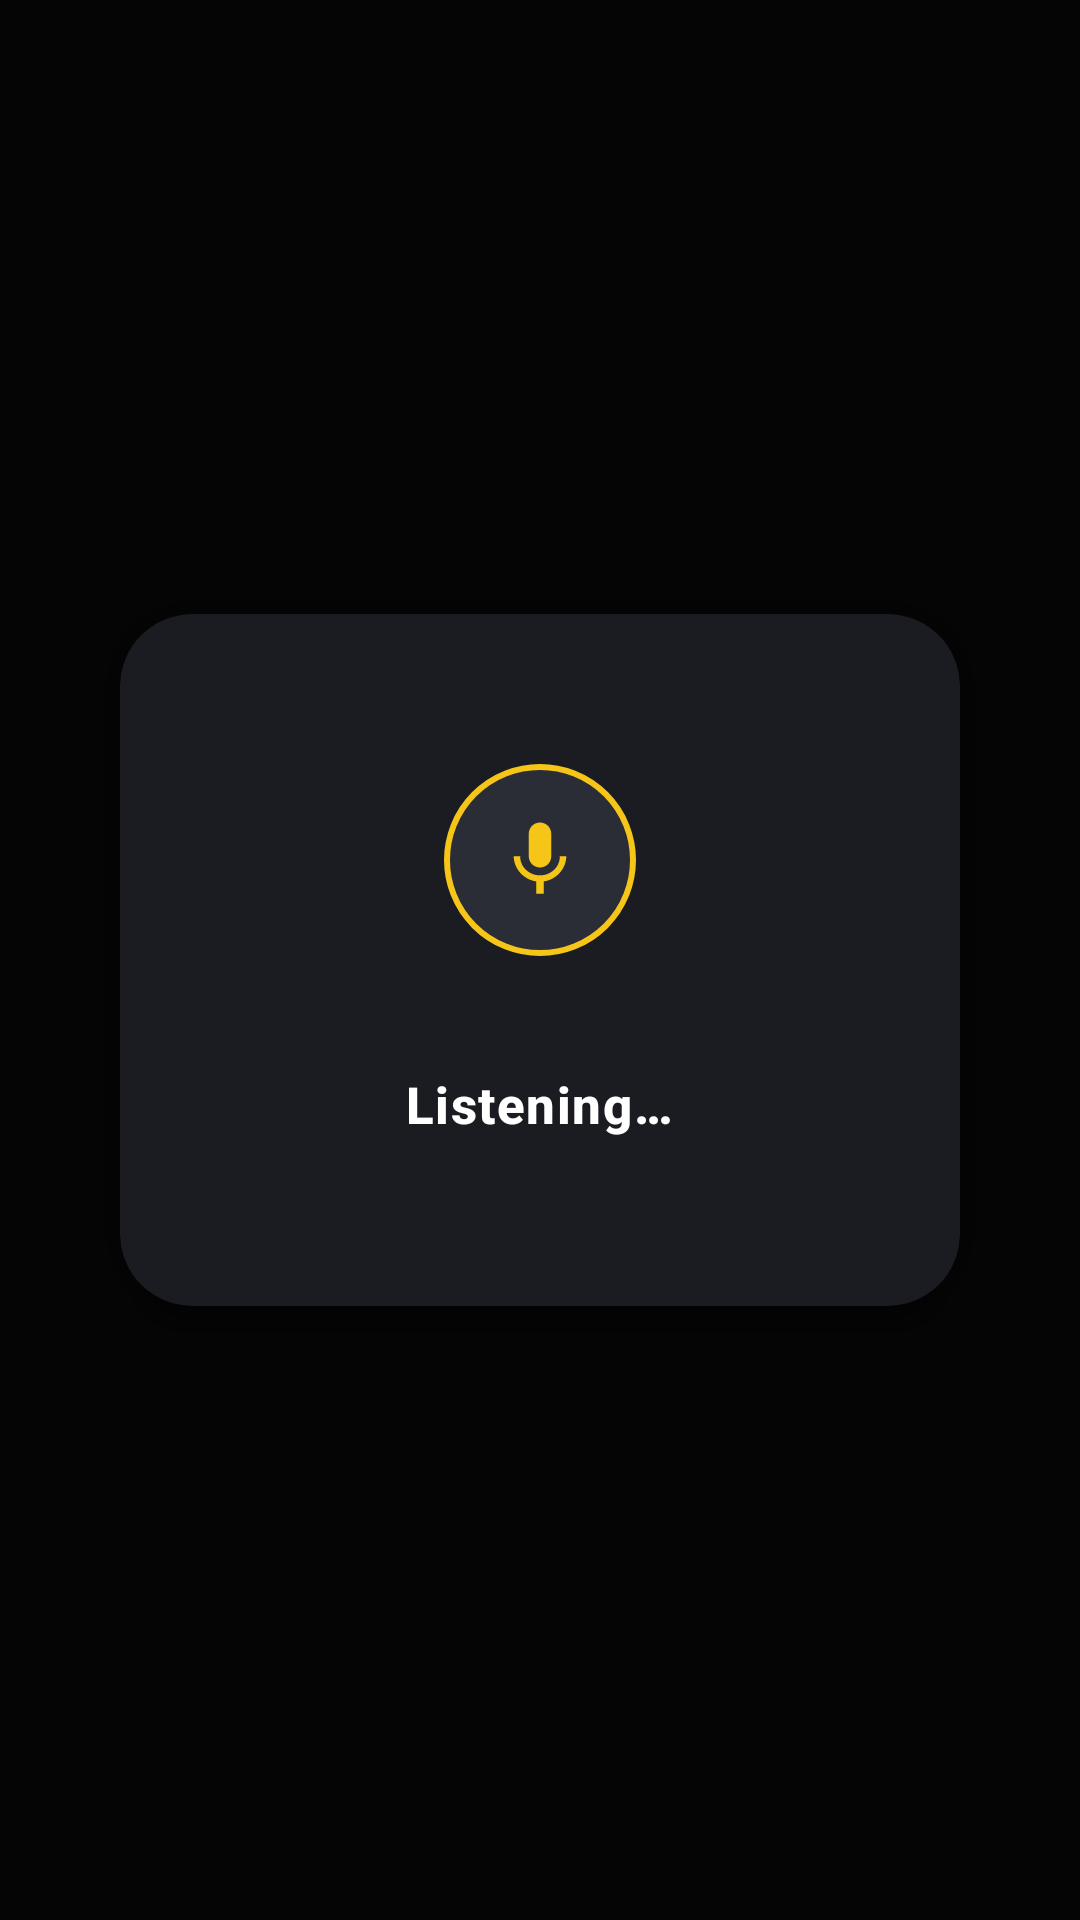

Icons on this 1080x1920 Android screen, each with the point to tap as point (x, y):
Microphone: point (540, 858)
